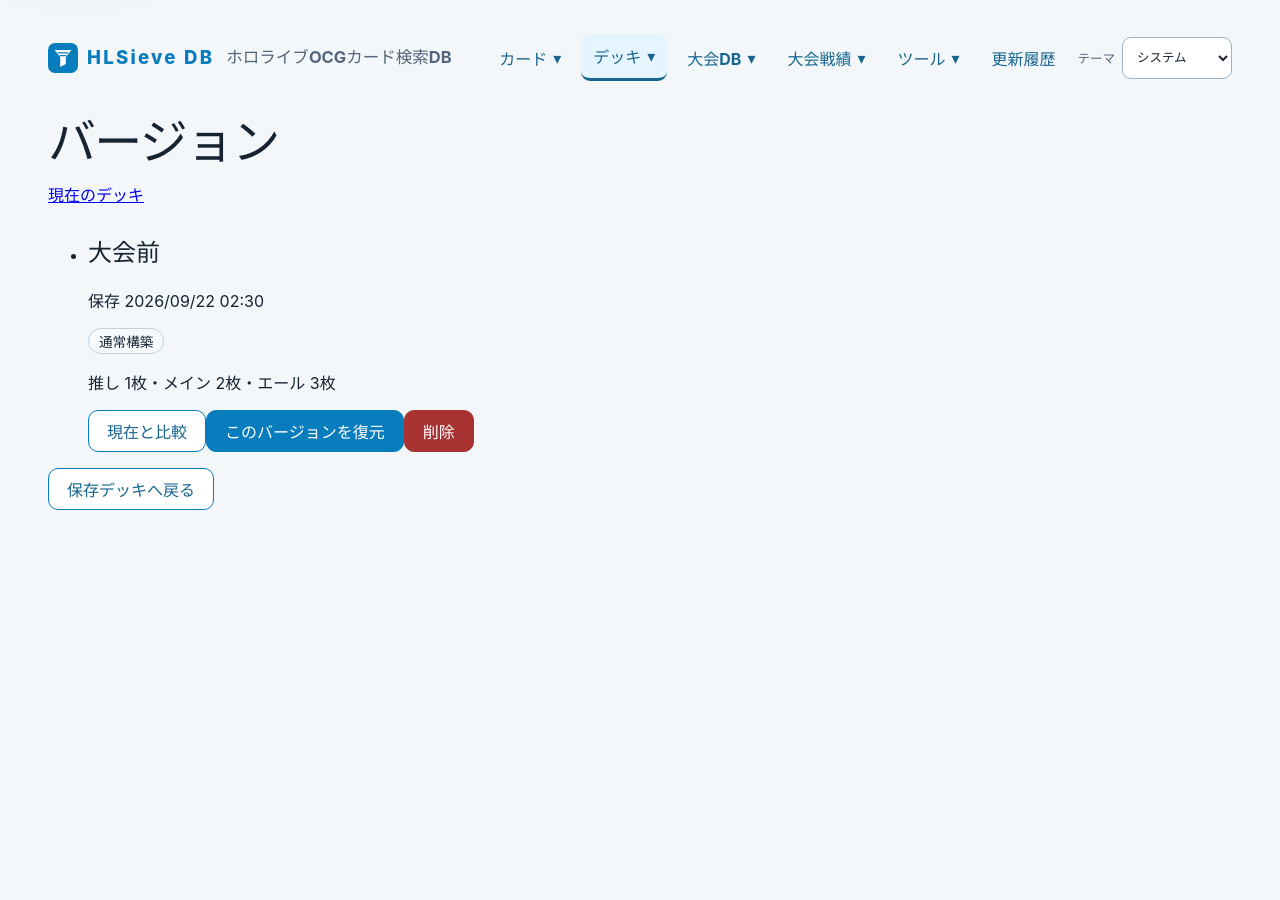
Test: putting a snapshot back › keeps no snapshot of what it replaced
Expected: the heading "大会前" is shown, [88, 238, 160, 267]
Click the button "このバージョンを復元".
click(305, 430)  # box [206, 410, 404, 452]
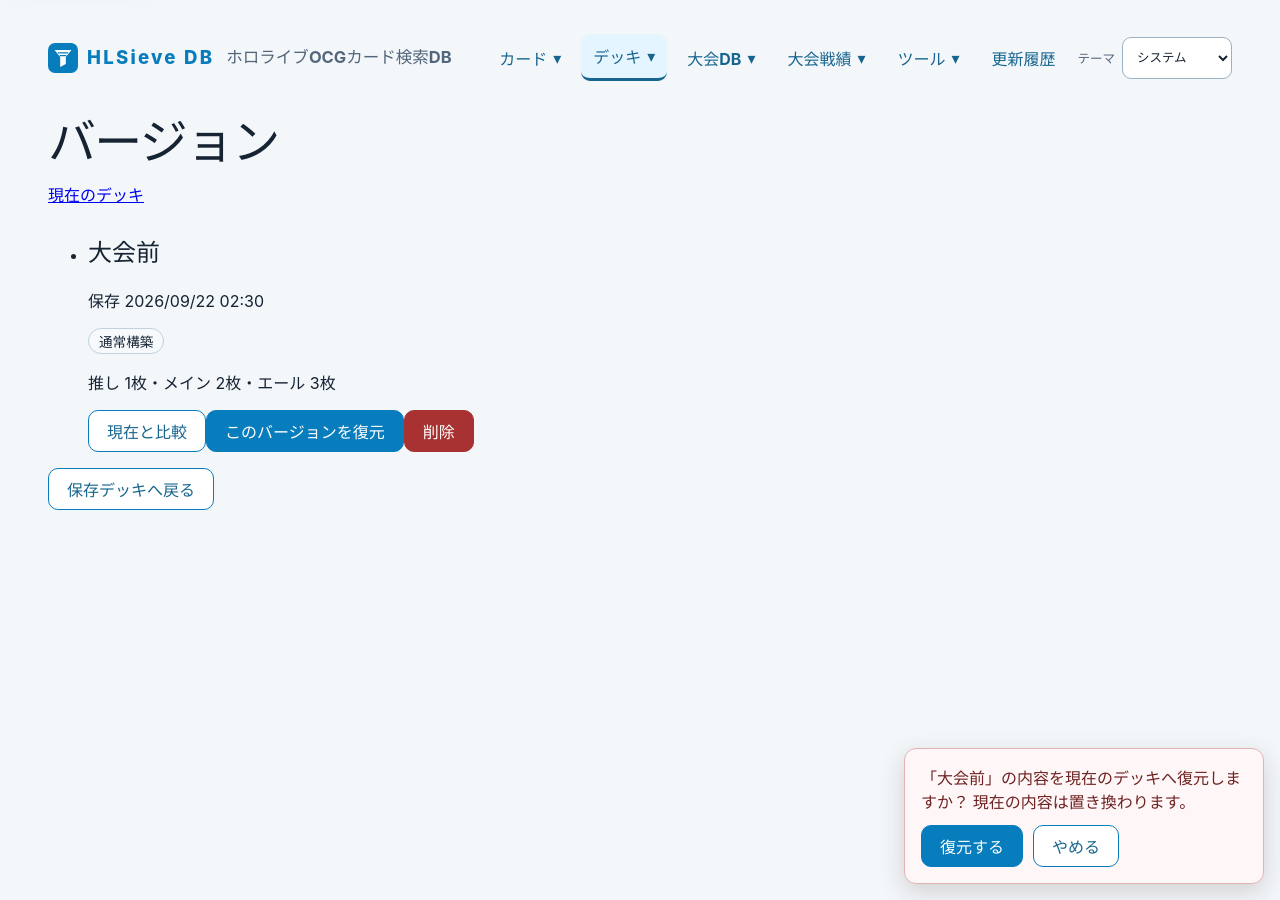
Click the button "復元する".
click(972, 846)  # box [921, 825, 1023, 867]
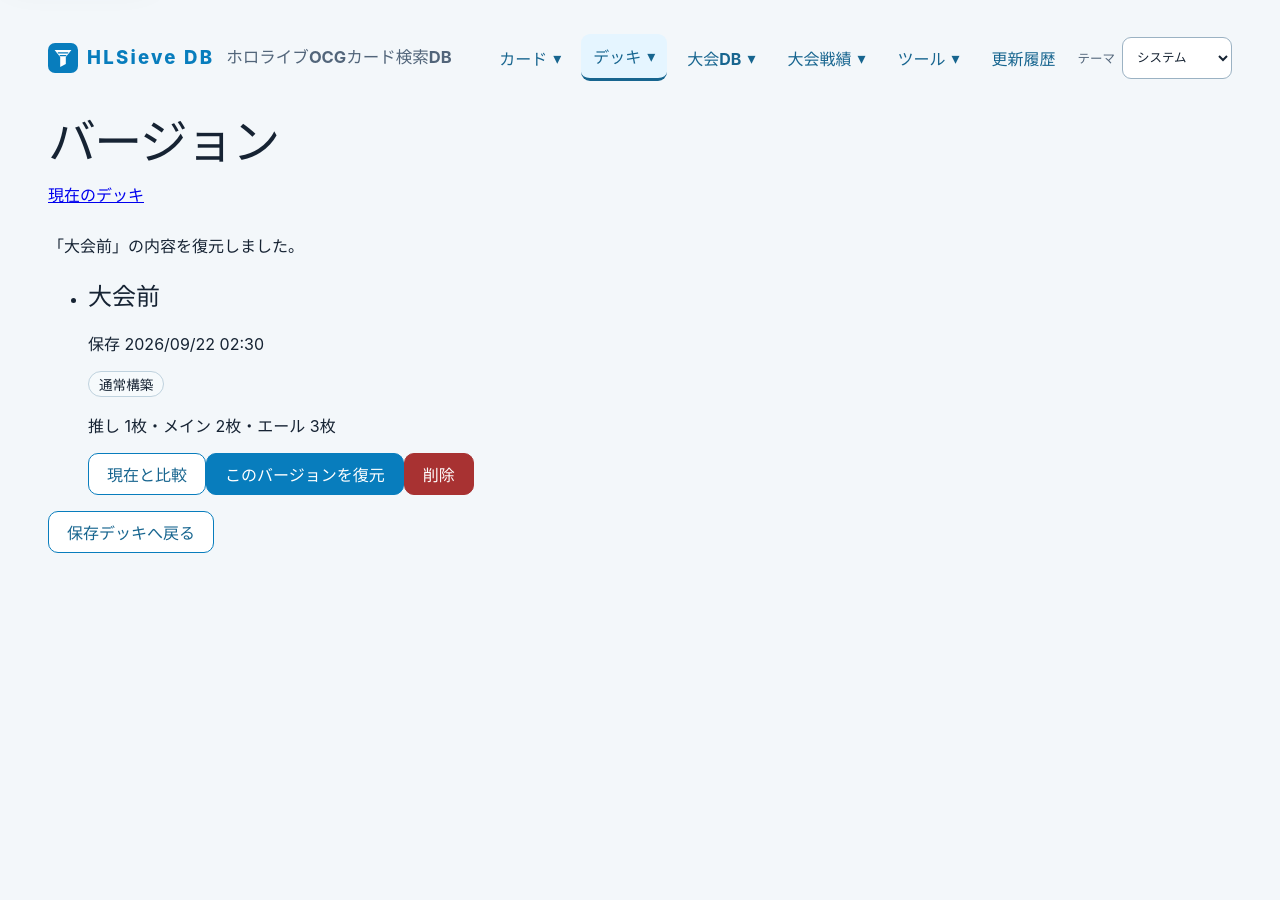
Expected: the text "「大会前」の内容を復元しました。" is shown, [48, 236, 304, 256]
